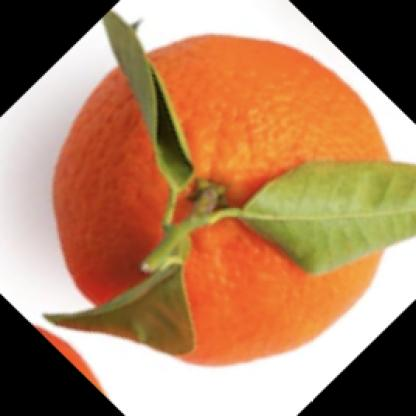fresh: (54, 36, 397, 369)
